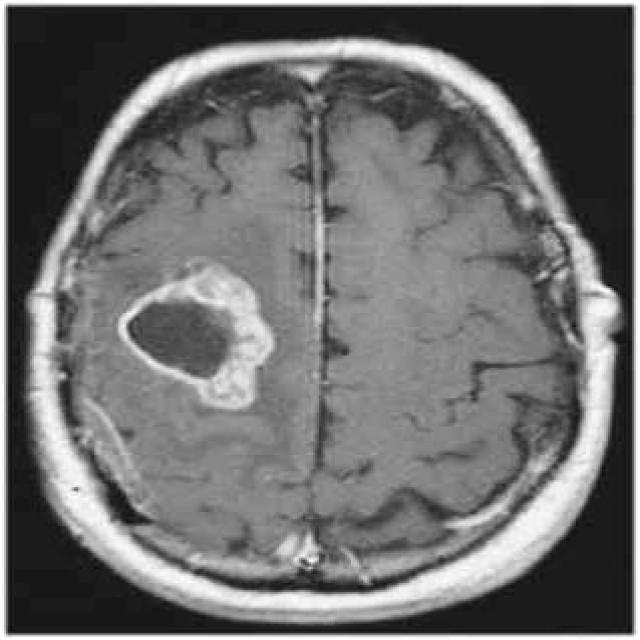Tumor-Cell: (119, 264, 274, 416)
